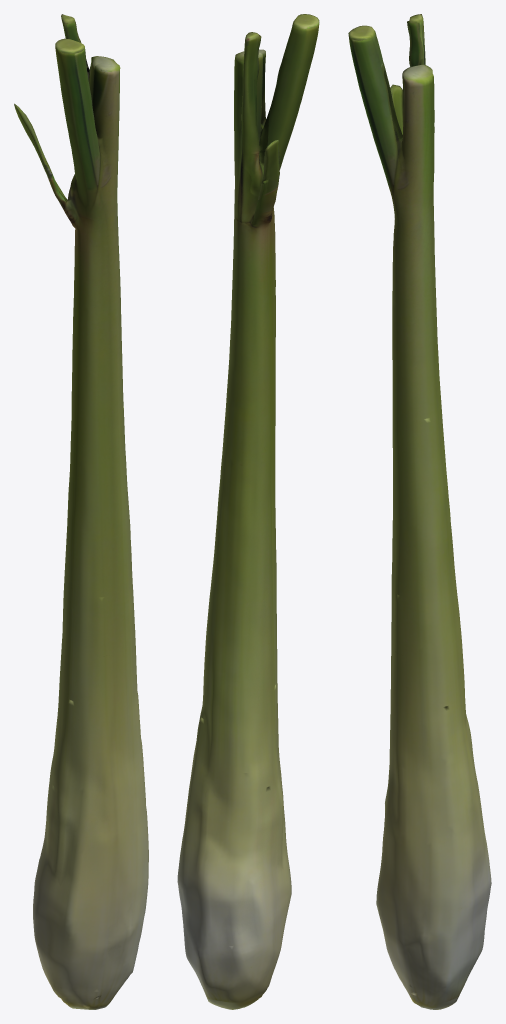
Rendered from Serai.fbx.
3 renders of one model, left to right at view 1: azimuth 30°, elevation 25°; view 2: azimuth 150°, elevation 25°; view 3: azimuth 330°, elevation 25°, orthographic.
Visible parts, largest first — view 1: Object_2; view 2: Object_2; view 3: Object_2.
Part boxes in pixels (x1=…): Object_2: x1=14, y1=14, x2=148, y2=1009; Object_2: x1=177, y1=14, x2=319, y2=1009; Object_2: x1=348, y1=14, x2=491, y2=1009.
Bounding box in the file's own units: 689 × 6122 × 712.
